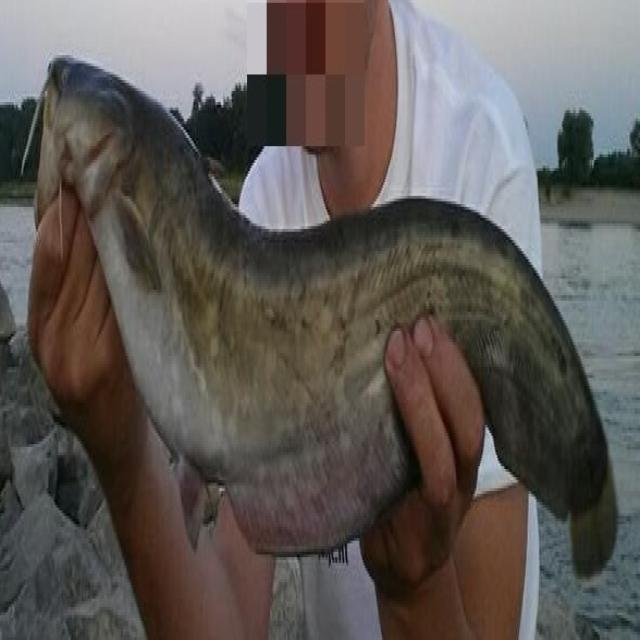Catfish: (26, 40, 633, 625)
